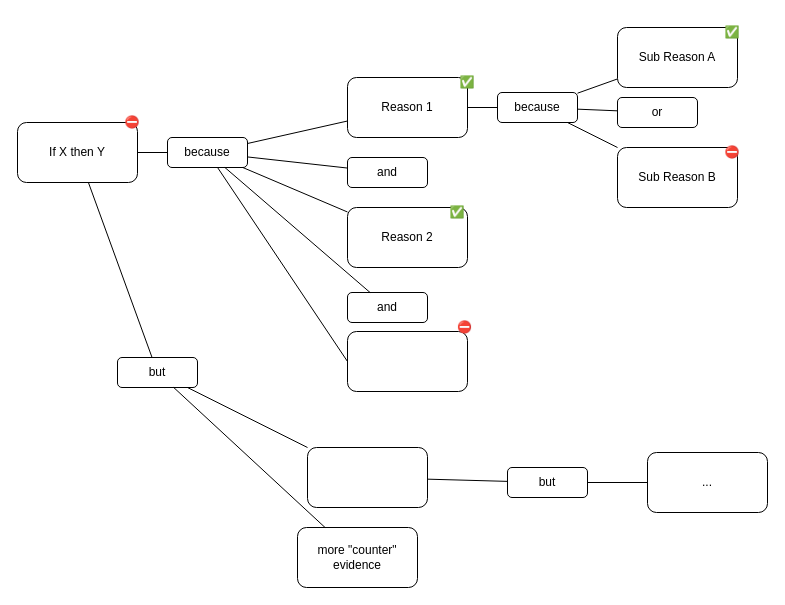
The diagram is 785 pixels wide and 605 high, and some of its shapes have lost their labels. The shapes that lost their labels are listed below. From the top down, each one's centre as x and y in pixels, then its label:
point 407,361: Reason 3
point 367,477: Evidence suggesting "because" might be wrong
